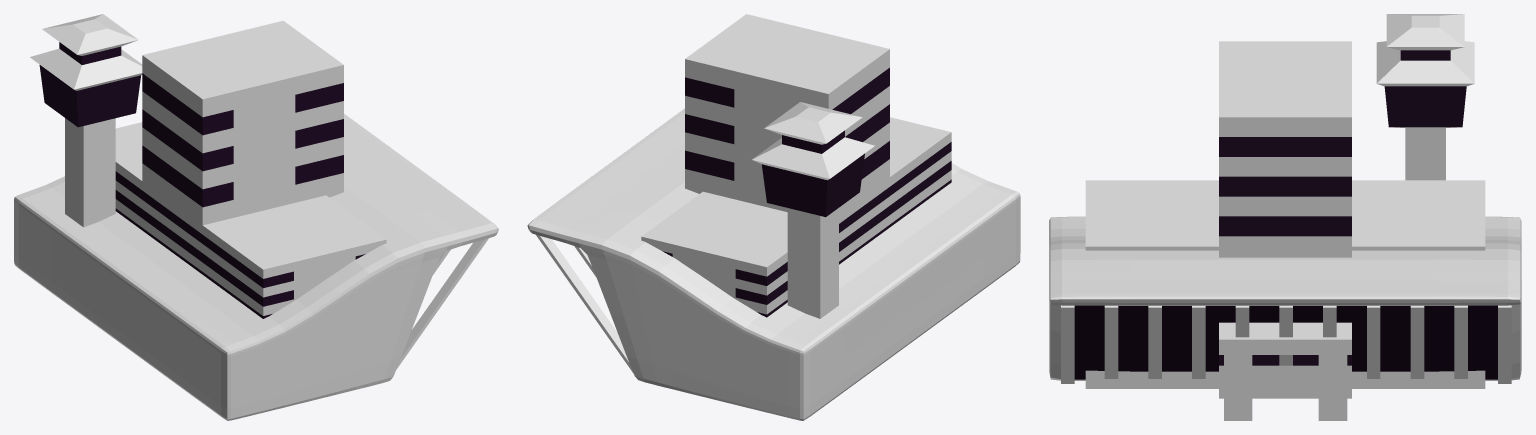
The model's file is hospital.glb.
The picture shows the model from 3 angles, left to right: view 1: azimuth 30°, elevation 25°; view 2: azimuth 150°, elevation 25°; view 3: azimuth 270°, elevation 25°; orthographic projection. The views are drawn at different scales.
Visible parts, largest first — view 1: airport, hospital; view 2: airport, hospital; view 3: airport, hospital.
Boxes of the visible parts, x1,y1,x2,y2 form: airport: (14,14,498,420); hospital: (115,20,386,318); airport: (527,102,1020,420); hospital: (641,14,951,317); airport: (1049,14,1521,383); hospital: (1085,41,1485,420).
Size of the model in its own units: 4.5 by 4.09 by 6.02.
